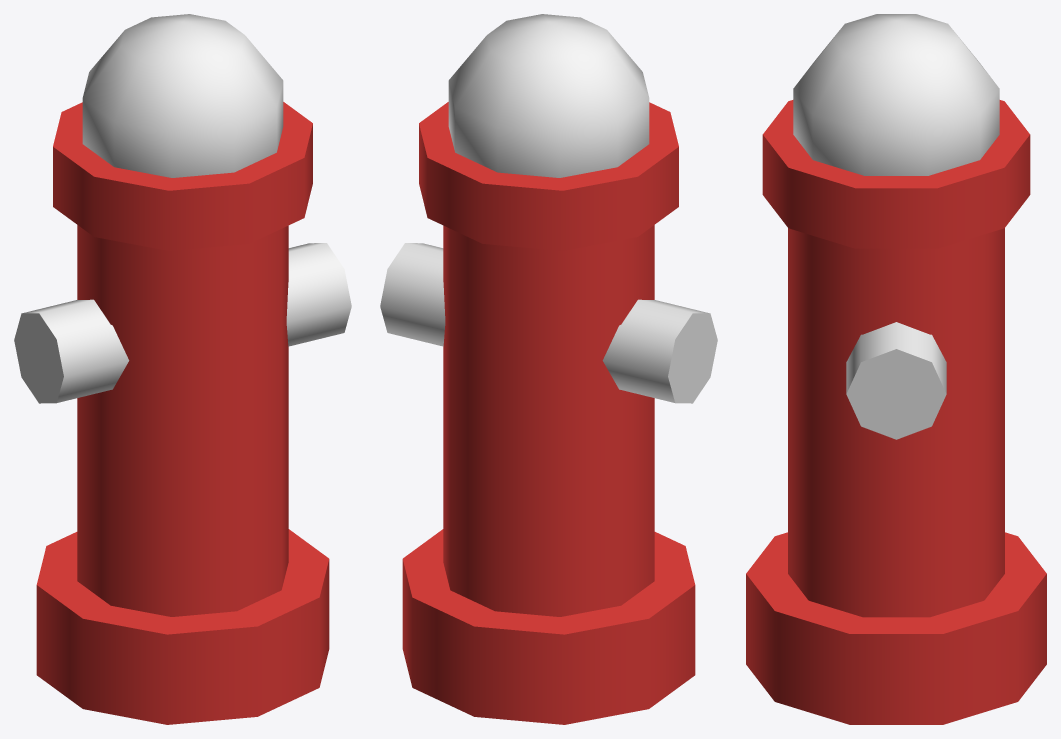
File: hydrant.glb
3 views of the same model, side by side, from view 1: azimuth 30°, elevation 25°; view 2: azimuth 150°, elevation 25°; view 3: azimuth 270°, elevation 25° (orthographic).
Parts seen in each view (by area): view 1: hydrant_body; view 2: hydrant_body; view 3: hydrant_body.
Boxes of the visible parts, <box> form: hydrant_body: <box>14,14,351,724</box>; hydrant_body: <box>380,14,717,724</box>; hydrant_body: <box>746,14,1046,724</box>.
Bounding box in the file's own units: 0.4 × 0.85 × 0.36.
